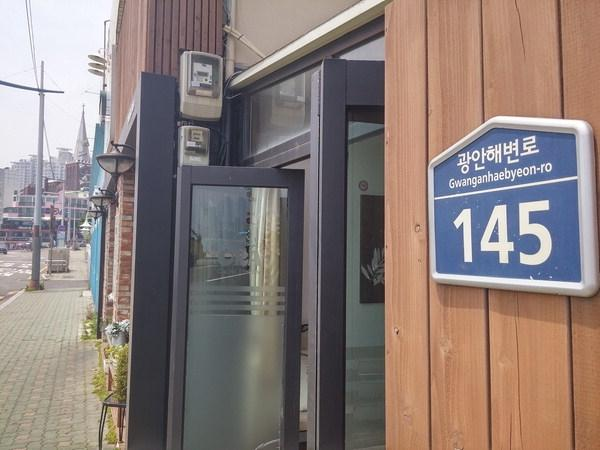building_license_plate1: (428, 115, 600, 297)
